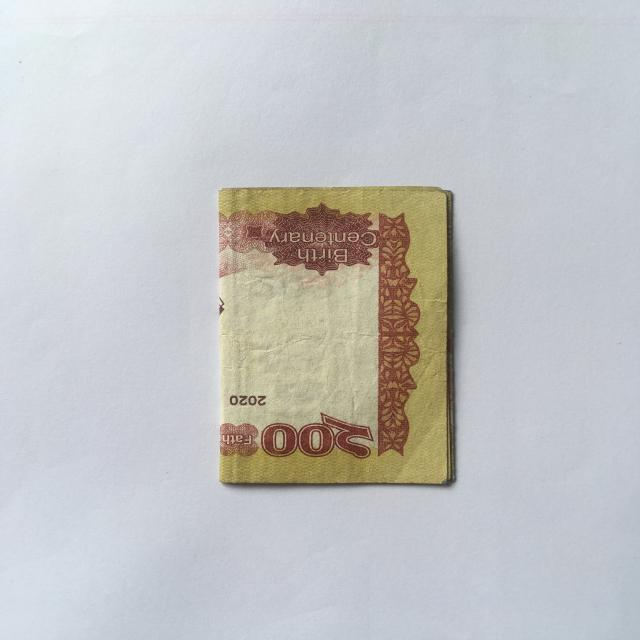Taka: (212, 178, 448, 487)
